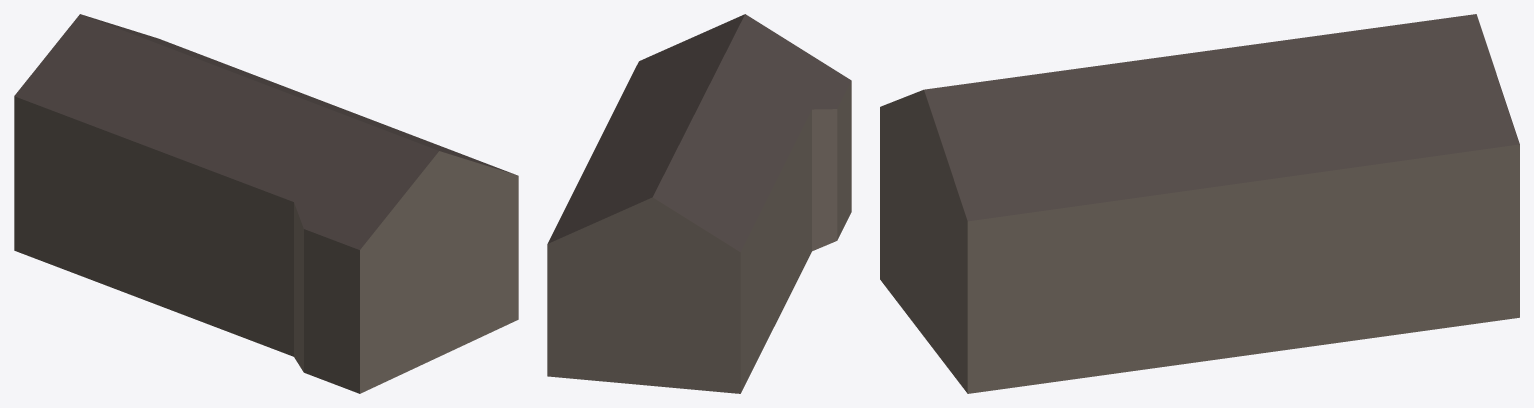
3 views of the same model, side by side, from view 1: azimuth 30°, elevation 25°; view 2: azimuth 150°, elevation 25°; view 3: azimuth 270°, elevation 25° (orthographic). The views are drawn at different scales.
Parts seen in each view (by area): view 1: HP-w1323627521; view 2: HP-w1323627521; view 3: HP-w1323627521.
Boxes of the visible parts, <box> form: HP-w1323627521: <box>14,14,518,393</box>; HP-w1323627521: <box>547,14,851,393</box>; HP-w1323627521: <box>880,14,1519,393</box>.
Bounding box in the file's own units: 20.17 × 12.89 × 30.25.
